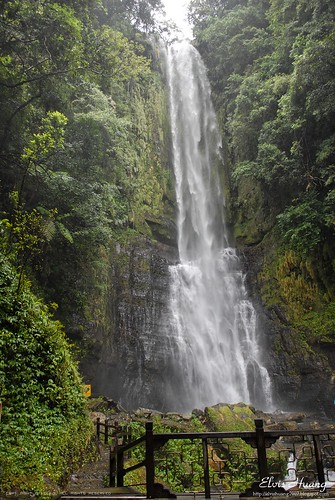wufengciWaterfall: (112, 21, 300, 421)
